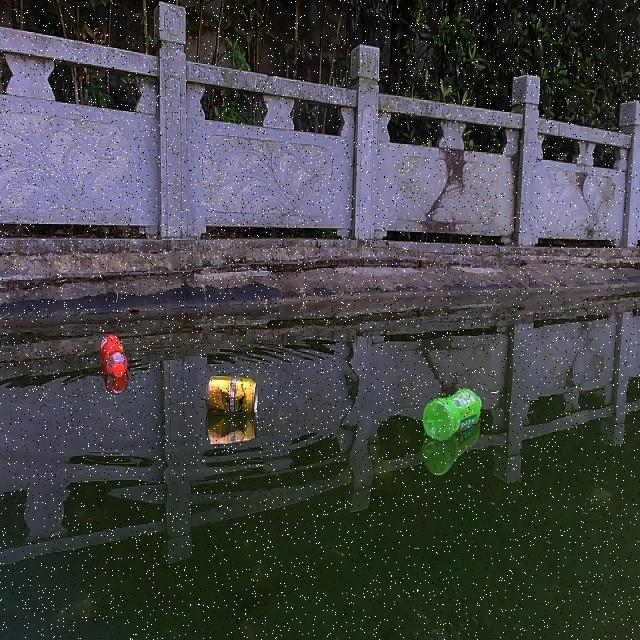bottle: (420, 385, 480, 440), (98, 332, 127, 376)
can: (204, 372, 257, 416)
